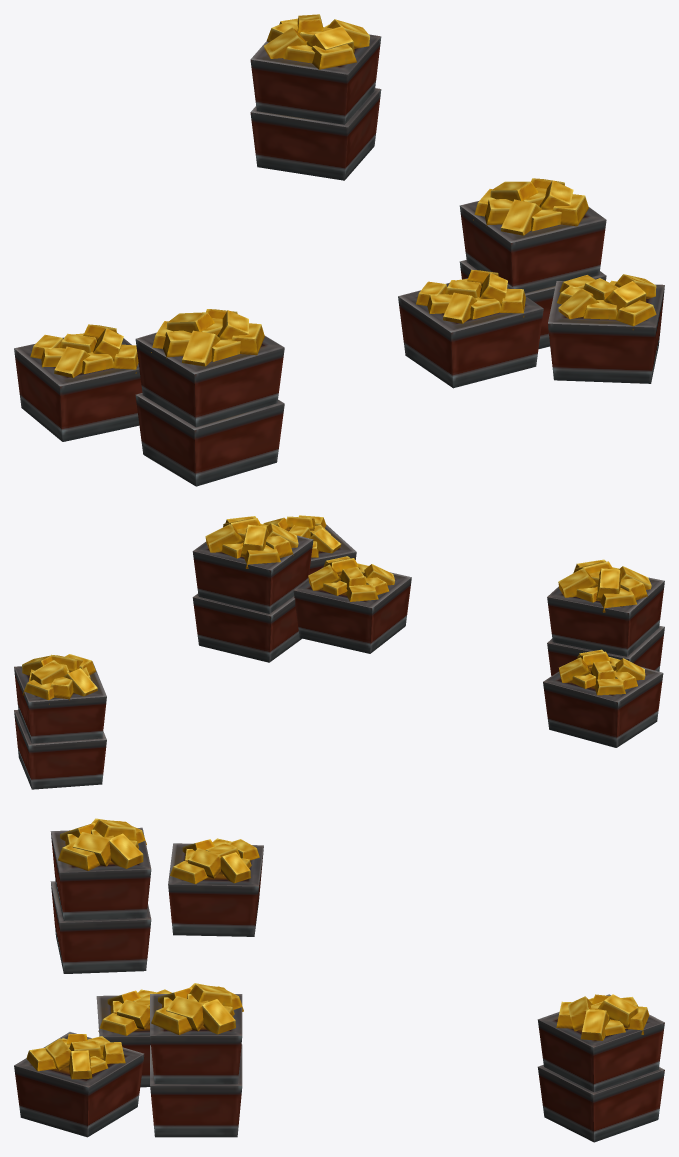
Rendered from jingyingpanjun_a_box.FBX.
3 views of the same model, one above another, from view 1: azimuth 30°, elevation 25°; view 2: azimuth 150°, elevation 25°; view 3: azimuth 270°, elevation 25° (orthographic). The views are drawn at different scales.
Parts seen in each view (by area): view 1: jingyingpanjun_a_box; view 2: jingyingpanjun_a_box; view 3: jingyingpanjun_a_box.
Part boxes in pixels (box(x1,y1,x2,y2)): jingyingpanjun_a_box: box(14, 14, 664, 486); jingyingpanjun_a_box: box(14, 515, 664, 789); jingyingpanjun_a_box: box(14, 818, 664, 1142).
Size of the model in its own units: 547 by 134 by 616.
